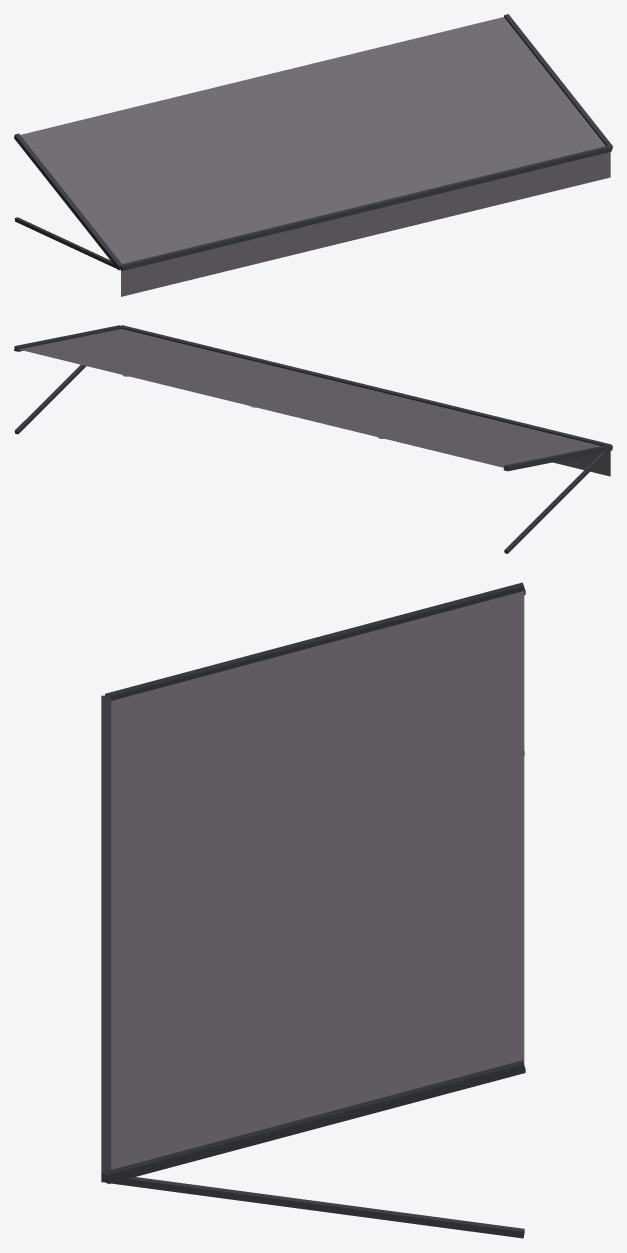
File: awning_2bay.glb
3 views of the same model, one above another, from view 1: azimuth 30°, elevation 25°; view 2: azimuth 150°, elevation 25°; view 3: azimuth 270°, elevation 25° (orthographic). The views are drawn at different scales.
Visible parts, largest first — view 1: awning_2bay; view 2: awning_2bay; view 3: awning_2bay.
Boxes of the visible parts, bbox=[...] form: awning_2bay: bbox=[14, 14, 612, 296]; awning_2bay: bbox=[14, 325, 612, 553]; awning_2bay: bbox=[101, 582, 525, 1238].
Size of the model in its own units: 4.64 by 0.784 by 1.73.
3 materials, 1 textured.
